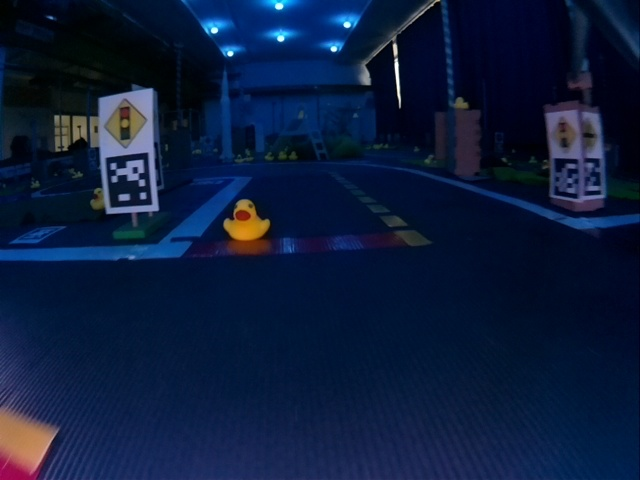Duckie: (224, 199, 268, 241), (90, 188, 105, 210)
Intersection sign: (581, 116, 600, 155)
QR code: (104, 154, 153, 208), (551, 161, 578, 196), (581, 157, 602, 197)
Signal sign: (102, 98, 148, 148), (549, 115, 577, 153)
